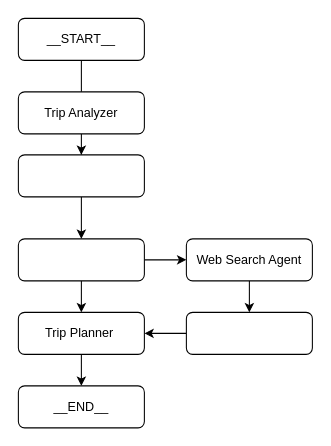
Some shapes in this 331 by 446 pixel diagram are drawn without their labels. Here are the shapes that lost their labels. From the top down, the centre of each, then its label:
the point at 80,175: Destination Retriever
the point at 80,259: Budget Checker
the point at 248,332: Response Builder
